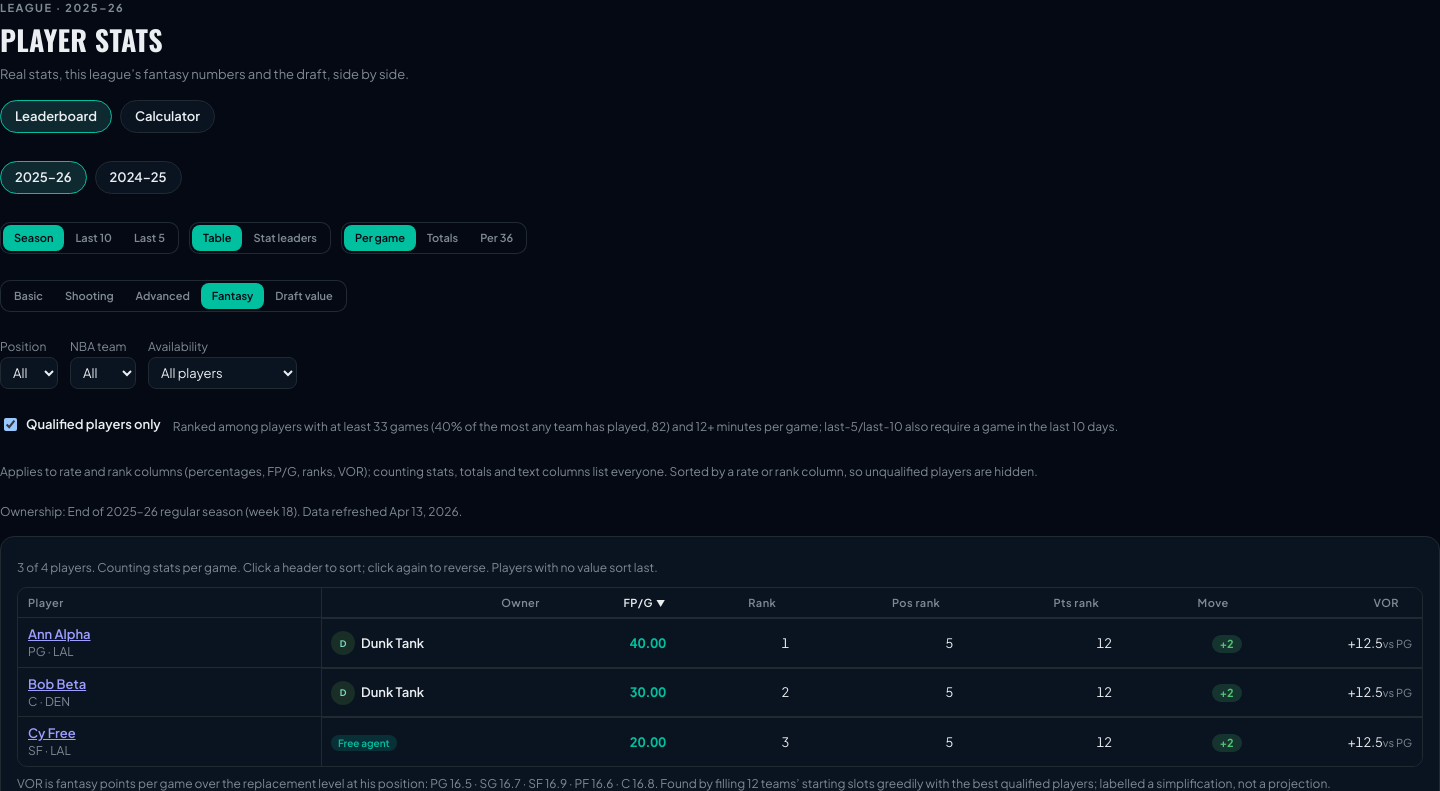
Test: StatLeaderboard › draws the qualification rule from the payload and lists the unqualified when switched off
The width and height of the screenshot is (1440, 791).
Expected: the text "12+ minutes per game" is shown, [173,419,1118,434]
Expected: the text "Dee Stale" is not shown
Click the checkbox labelled "Qualified players only". click: point(10, 424)
box: [4,418,17,431]
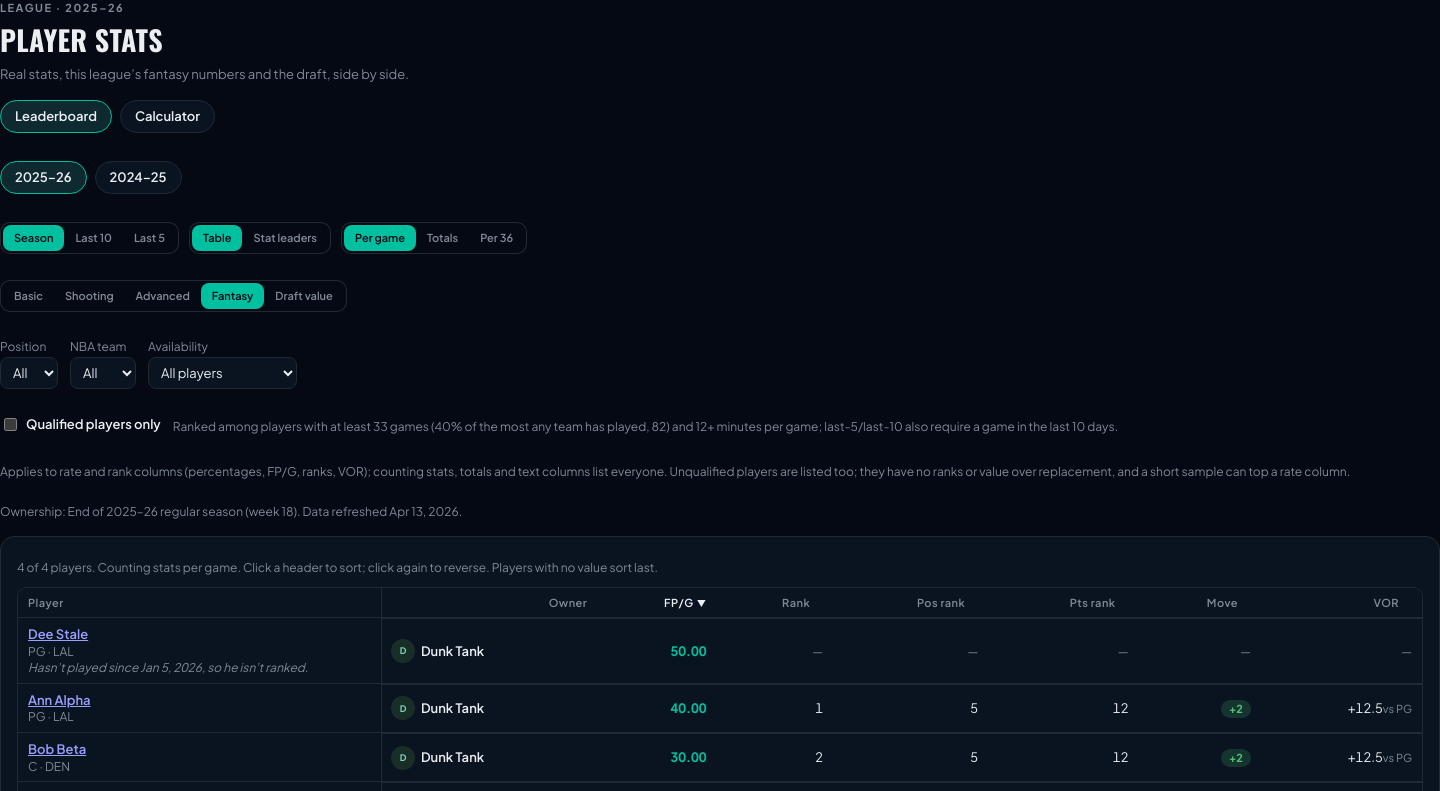
Expected: the link "Dee Stale" is shown, [28,626,88,642]
Expected: the text "Hasn’t played since Jan 5, 2026, so he isn’t ranked." is shown, [28,660,308,675]
